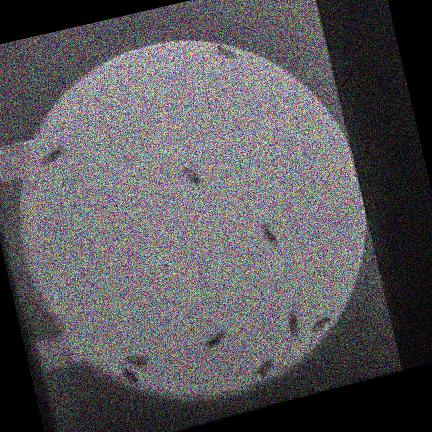fly: (252, 359, 275, 379), (203, 331, 225, 350), (184, 166, 203, 187), (42, 147, 64, 164), (261, 223, 277, 246), (121, 364, 138, 384), (126, 354, 150, 368), (214, 45, 237, 59), (288, 309, 299, 337), (313, 317, 331, 331)
